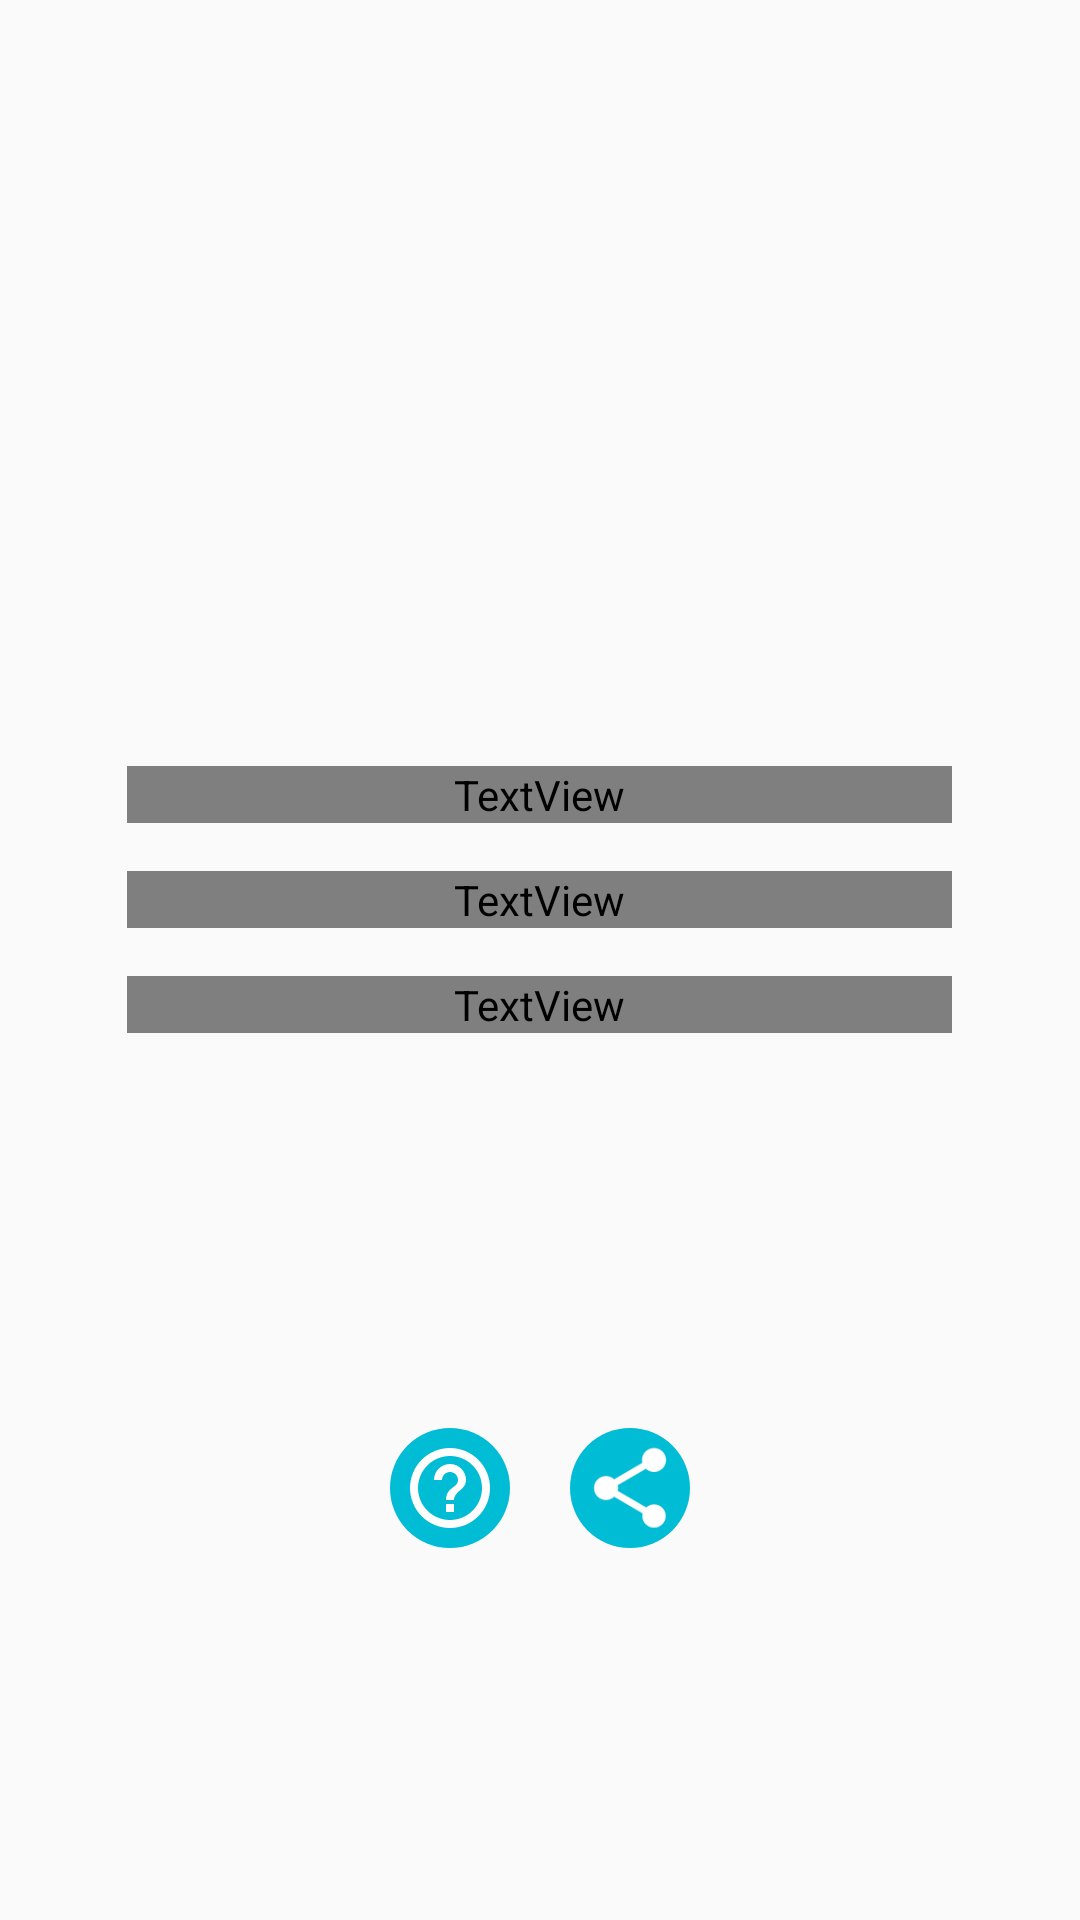

Screen size 1080px x 1920px. Icon name, then its center in pixels as [x,y]:
share: [630,1488]
